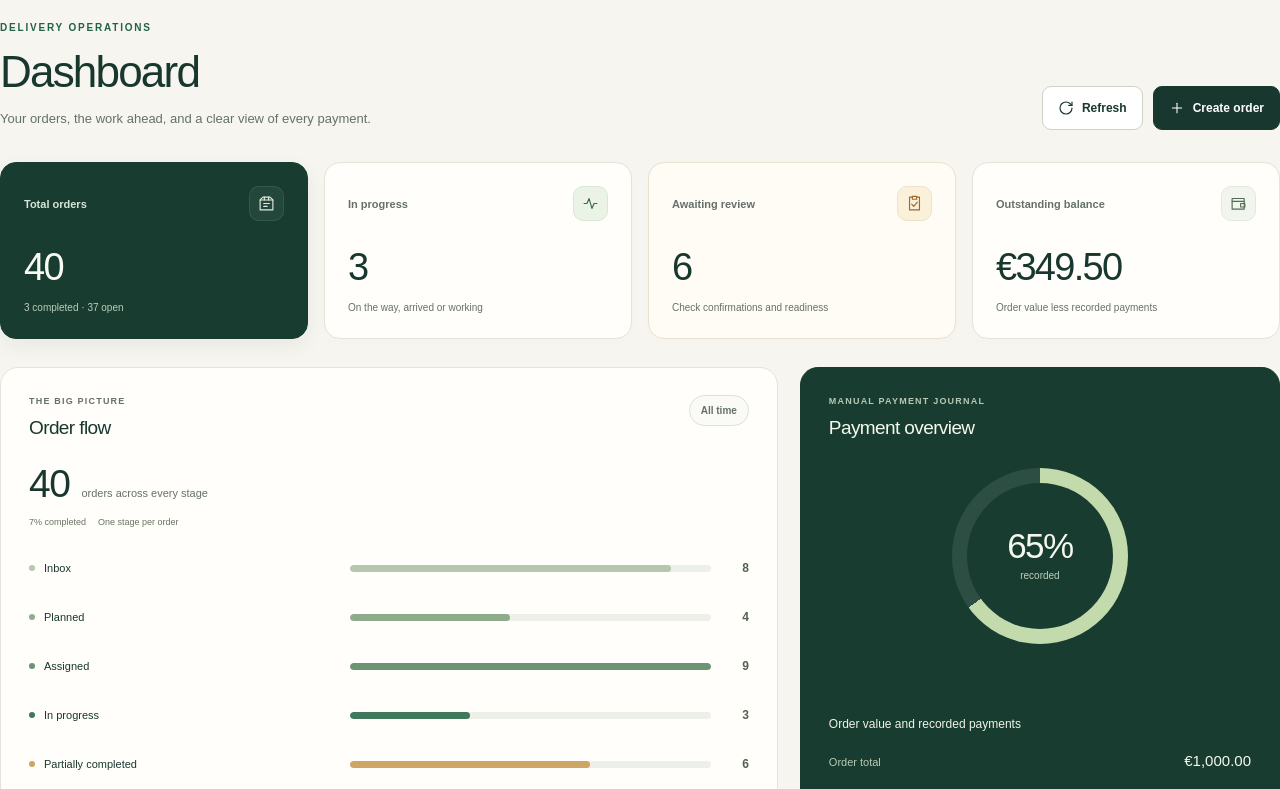
Test: dashboard charts from canonical all-order aggregates › clears retained financial data when a refresh reports lost access (401)
This screenshot has width=1280, height=789.
Click the button with aria-label "Refresh dashboard". click: (1092, 108)
box: [1042,86,1143,130]
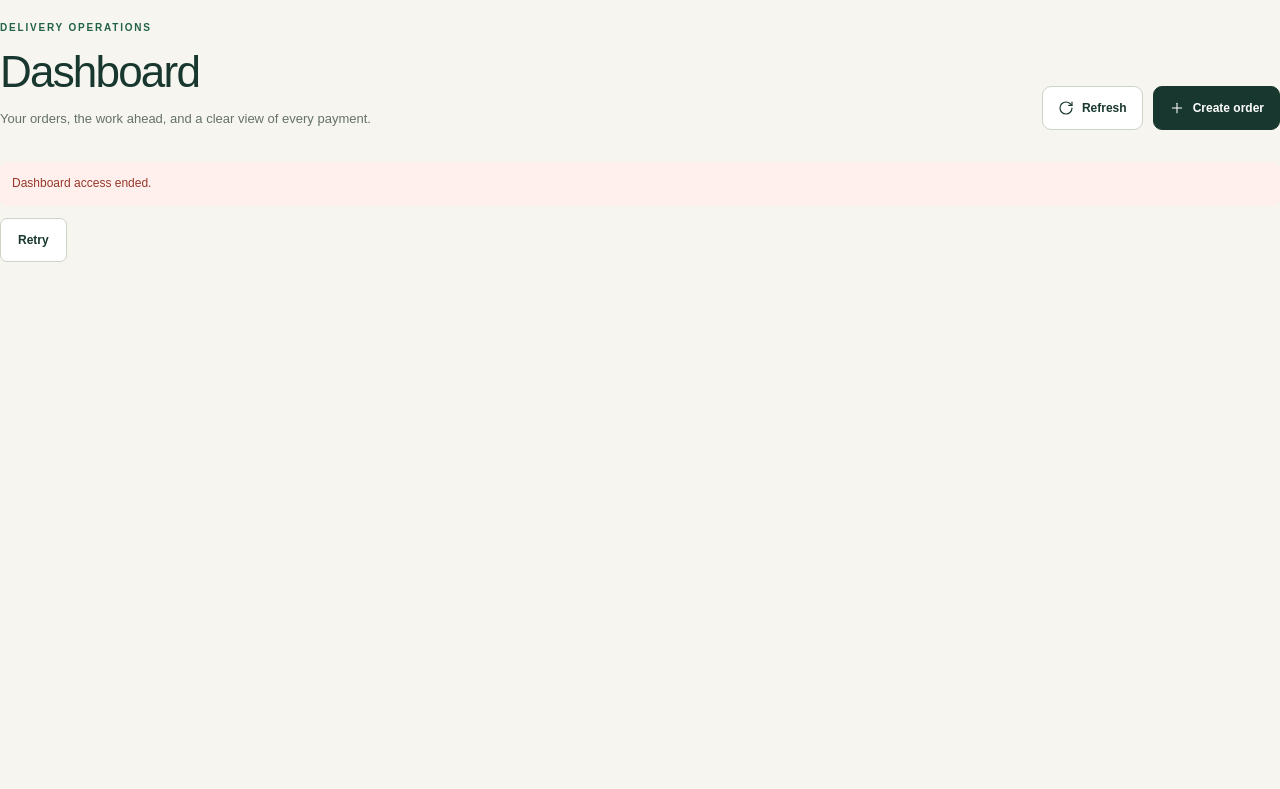
Now the message "Dashboard access ended." is shown, box [0,162,1279,206]
Now the heading "Payment overview" is gone
Now the heading "Order flow" is gone
